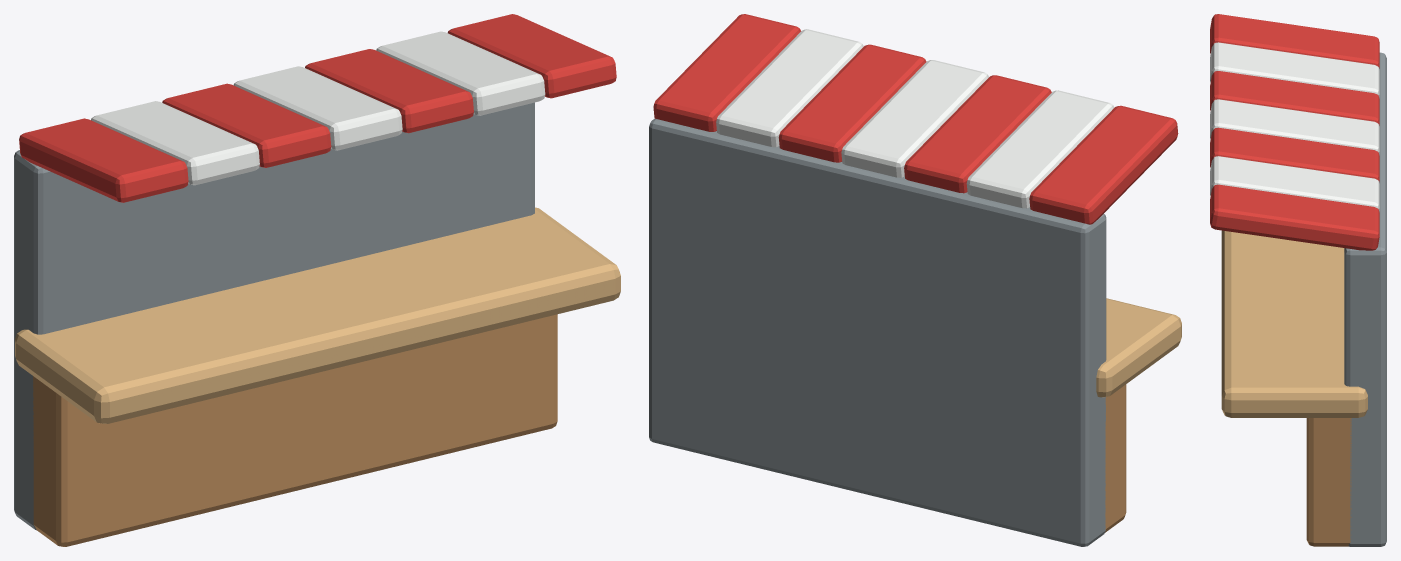
The model's file is Counter.fbx.
The picture shows the model from 3 angles, left to right: view 1: azimuth 30°, elevation 25°; view 2: azimuth 150°, elevation 25°; view 3: azimuth 270°, elevation 25°; orthographic projection. The views are drawn at different scales.
Parts seen in each view (by area): view 1: BackPanel, CounterFront, CounterTop, WindowTop, AwningStripe_00, AwningStripe_05, AwningStripe_06, AwningStripe_04, AwningStripe_01, AwningStripe_02, AwningStripe_03; view 2: BackPanel, WindowTop, AwningStripe_00, AwningStripe_06, AwningStripe_05, AwningStripe_04, AwningStripe_03, AwningStripe_02, AwningStripe_01, CounterTop, CounterFront; view 3: CounterTop, BackPanel, AwningStripe_06, CounterFront, AwningStripe_02, AwningStripe_00, AwningStripe_01, AwningStripe_03, AwningStripe_04, AwningStripe_05, WindowTop.
Boxes of the visible parts, left/top/right/bottom form: BackPanel: left=14, top=102, right=534, bottom=530; CounterFront: left=33, top=314, right=557, bottom=546; CounterTop: left=15, top=207, right=620, bottom=423; WindowTop: left=14, top=103, right=534, bottom=233; AwningStripe_00: left=19, top=118, right=188, bottom=202; AwningStripe_05: left=376, top=31, right=545, bottom=115; AwningStripe_06: left=447, top=14, right=616, bottom=98; AwningStripe_04: left=305, top=49, right=473, bottom=133; AwningStripe_01: left=91, top=101, right=259, bottom=185; AwningStripe_02: left=162, top=83, right=331, bottom=167; AwningStripe_03: left=233, top=66, right=402, bottom=150; BackPanel: left=649, top=126, right=1106, bottom=546; WindowTop: left=649, top=118, right=1106, bottom=285; AwningStripe_00: left=1029, top=105, right=1178, bottom=224; AwningStripe_06: left=653, top=14, right=800, bottom=131; AwningStripe_05: left=716, top=29, right=863, bottom=147; AwningStripe_04: left=778, top=44, right=926, bottom=162; AwningStripe_03: left=841, top=60, right=988, bottom=177; AwningStripe_02: left=904, top=75, right=1051, bottom=193; AwningStripe_01: left=966, top=90, right=1114, bottom=208; CounterTop: left=1096, top=298, right=1181, bottom=397; CounterFront: left=1105, top=384, right=1126, bottom=532; CounterTop: left=1221, top=230, right=1367, bottom=417; BackPanel: left=1344, top=55, right=1386, bottom=546; AwningStripe_06: left=1210, top=184, right=1379, bottom=250; CounterFront: left=1306, top=418, right=1351, bottom=546; AwningStripe_02: left=1210, top=71, right=1379, bottom=125; AwningStripe_00: left=1210, top=14, right=1379, bottom=68; AwningStripe_01: left=1210, top=42, right=1379, bottom=96; AwningStripe_03: left=1210, top=99, right=1379, bottom=153; AwningStripe_04: left=1210, top=127, right=1379, bottom=182; AwningStripe_05: left=1210, top=156, right=1379, bottom=210; WindowTop: left=1344, top=52, right=1386, bottom=304.
Bounding box in the file's own units: 2.1 × 1.58 × 0.7495.
